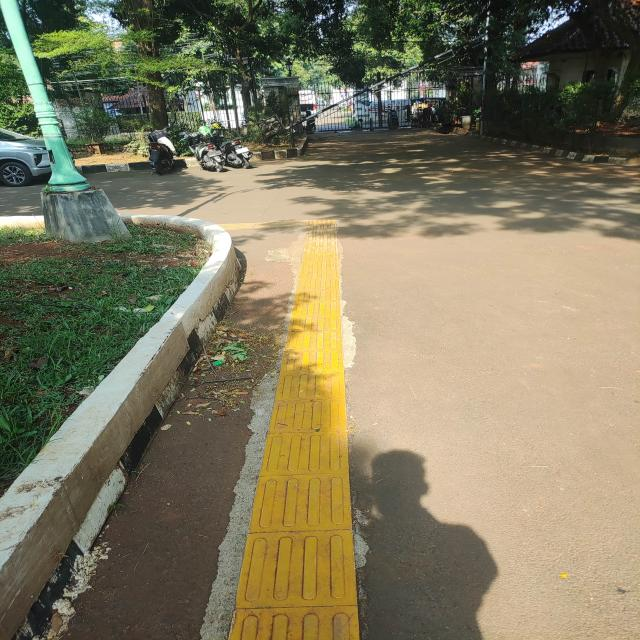lurus: (269, 235, 358, 640)
